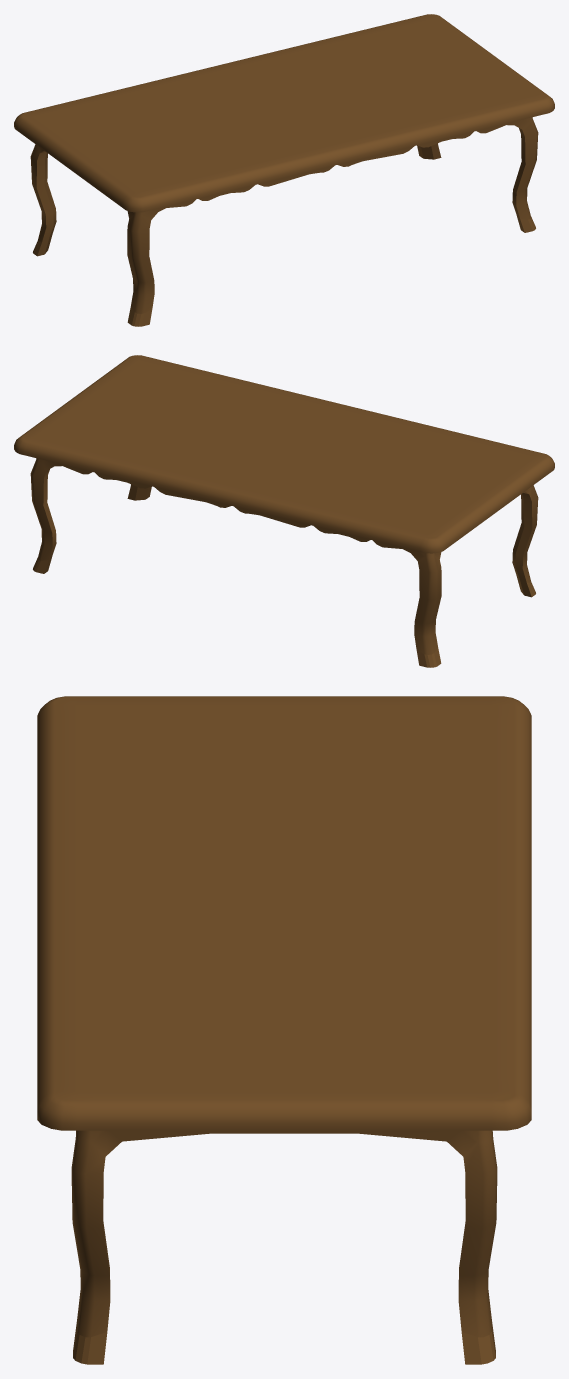
The model's file is Bench.fbx.
The picture shows the model from 3 angles, top to bottom: view 1: azimuth 30°, elevation 25°; view 2: azimuth 150°, elevation 25°; view 3: azimuth 270°, elevation 25°; orthographic projection. The views are drawn at different scales.
Parts seen in each view (by area): view 1: polySurface7360; view 2: polySurface7360; view 3: polySurface7360.
Part boxes in pixels (bbox=[...]): polySurface7360: bbox=[14, 14, 554, 326]; polySurface7360: bbox=[14, 355, 554, 667]; polySurface7360: bbox=[37, 696, 531, 1364].
Bounding box in the file's own units: 2 × 0.5995 × 1.
